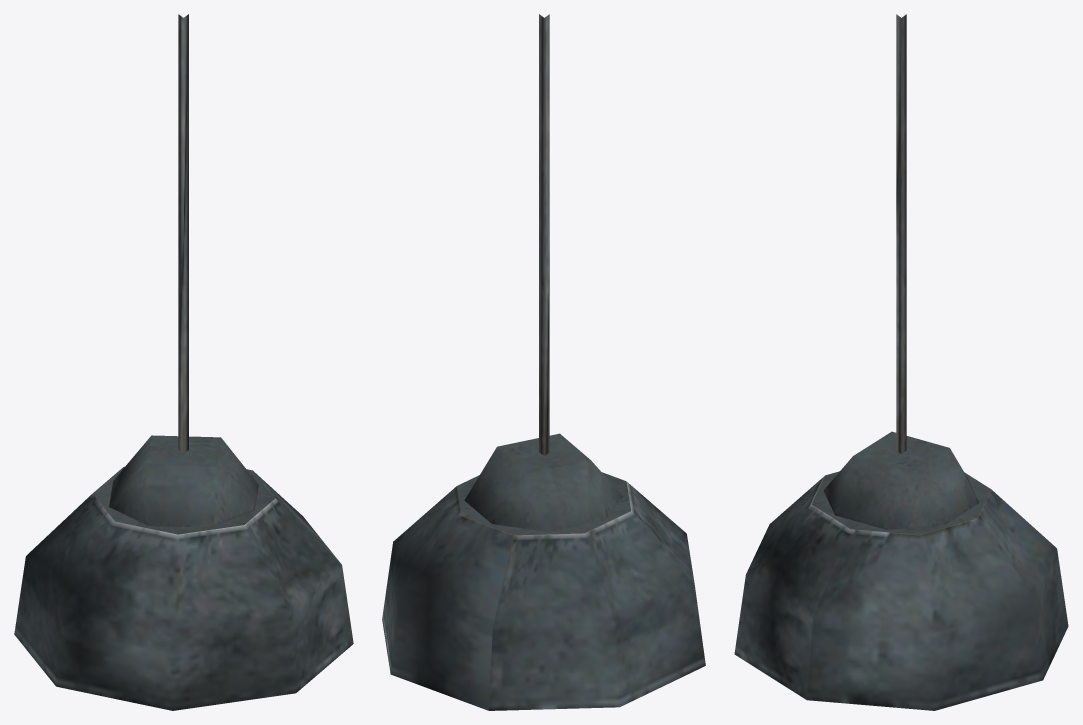
Rendered from Prop_DflgGuswfjcDj001.glb.
3 renders of one model, left to right at view 1: azimuth 30°, elevation 25°; view 2: azimuth 150°, elevation 25°; view 3: azimuth 270°, elevation 25°, orthographic.
Visible parts, largest first — view 1: dflg_guswfjc_dj001; view 2: dflg_guswfjc_dj001; view 3: dflg_guswfjc_dj001.
Boxes of the visible parts, box(x1,y1,x2,y2) form: dflg_guswfjc_dj001: box(14, 14, 353, 710); dflg_guswfjc_dj001: box(382, 14, 705, 710); dflg_guswfjc_dj001: box(734, 14, 1068, 710).
Bounding box in the file's own units: 0.4917 × 1.01 × 0.4918.
Materials: 1 (1 with a texture image).
